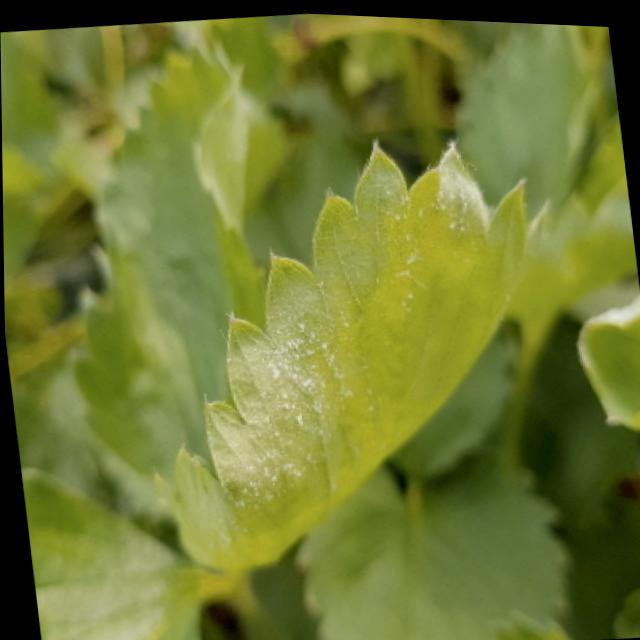Powdery Mildew Leaf: (151, 130, 553, 573), (572, 281, 640, 428)
